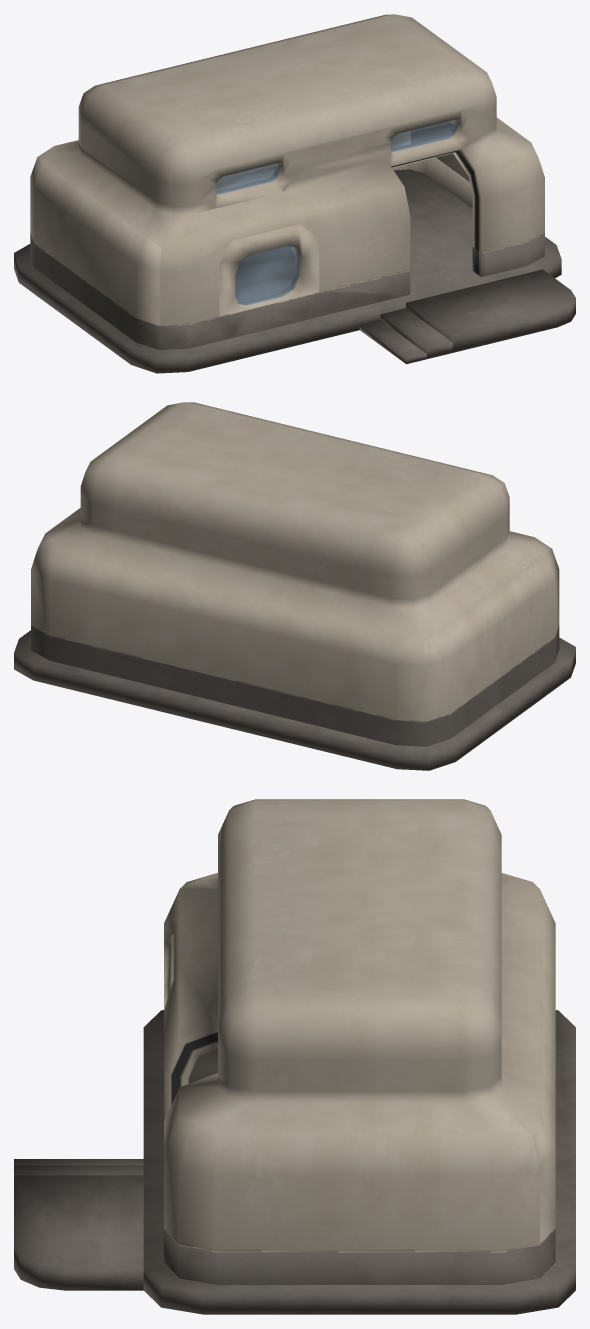
Rendered from Sci Fi House.fbx.
The picture shows the model from 3 angles, top to bottom: view 1: azimuth 30°, elevation 25°; view 2: azimuth 150°, elevation 25°; view 3: azimuth 270°, elevation 25°; orthographic projection. The views are drawn at different scales.
Parts seen in each view (by area): view 1: Cube.011, Cube.006; view 2: Cube.006, Cube.011; view 3: Cube.011, Cube.006.
Boxes of the visible parts, bbox=[...] form: Cube.011: bbox=[37, 14, 544, 325]; Cube.006: bbox=[14, 131, 575, 373]; Cube.006: bbox=[14, 548, 575, 770]; Cube.011: bbox=[33, 402, 551, 641]; Cube.011: bbox=[164, 799, 539, 1251]; Cube.006: bbox=[14, 890, 575, 1314].
Bounding box in the file's own units: 829 × 364 × 681.
